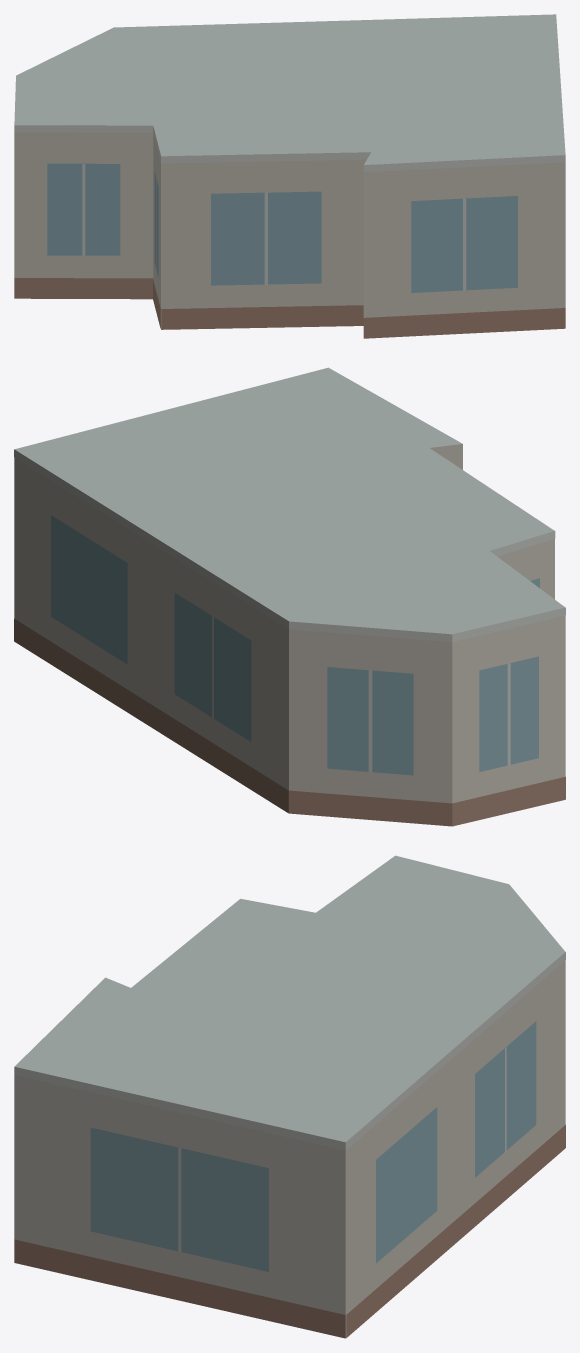
Rendered from survey-upis-33010968.glb.
3 views of the same model, one above another, from view 1: azimuth 30°, elevation 25°; view 2: azimuth 150°, elevation 25°; view 3: azimuth 270°, elevation 25° (orthographic). The views are drawn at different scales.
Parts seen in each view (by area): view 1: survey-upis-33010968.tmp; view 2: survey-upis-33010968.tmp; view 3: survey-upis-33010968.tmp.
Part boxes in pixels (<box>): survey-upis-33010968.tmp: <box>14,14,565,338</box>; survey-upis-33010968.tmp: <box>14,367,565,826</box>; survey-upis-33010968.tmp: <box>14,855,565,1338</box>.
Size of the model in its own units: 9.58 by 3.05 by 7.78.
